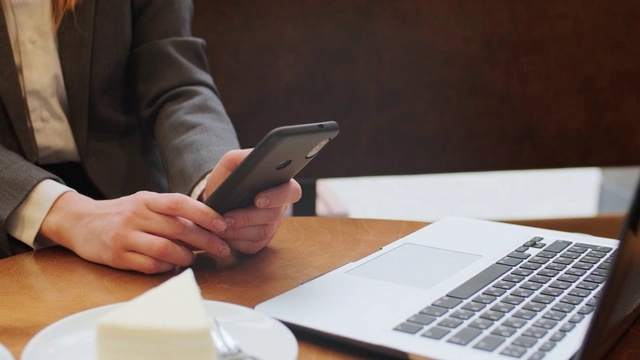phone: (195, 113, 344, 231)
